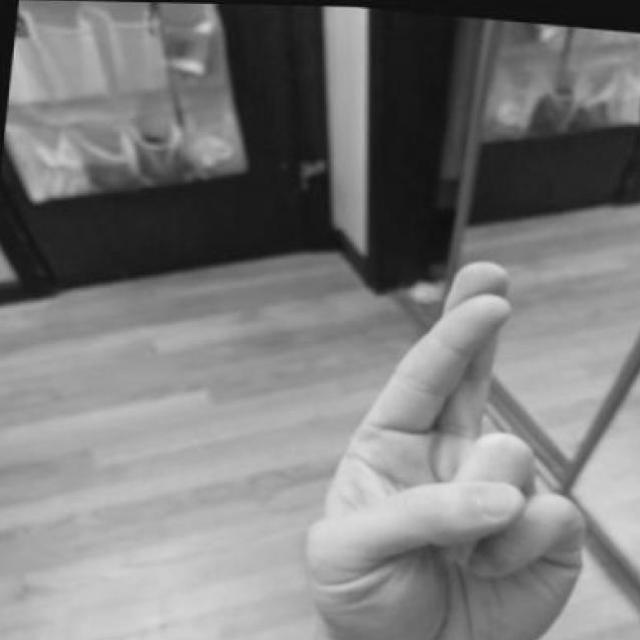R: (297, 247, 596, 640)
